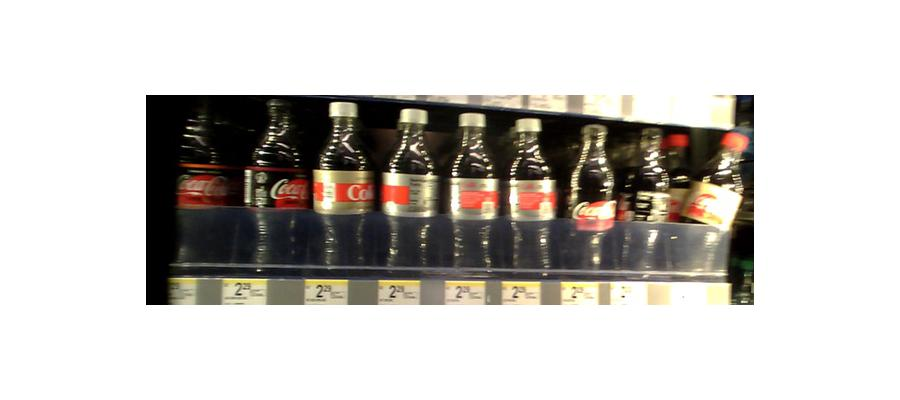bottle: (666, 129, 751, 283), (171, 110, 241, 272), (381, 100, 440, 278), (250, 95, 309, 269), (317, 97, 373, 272), (445, 106, 501, 277), (563, 122, 617, 276), (505, 114, 557, 273), (623, 137, 662, 275)
